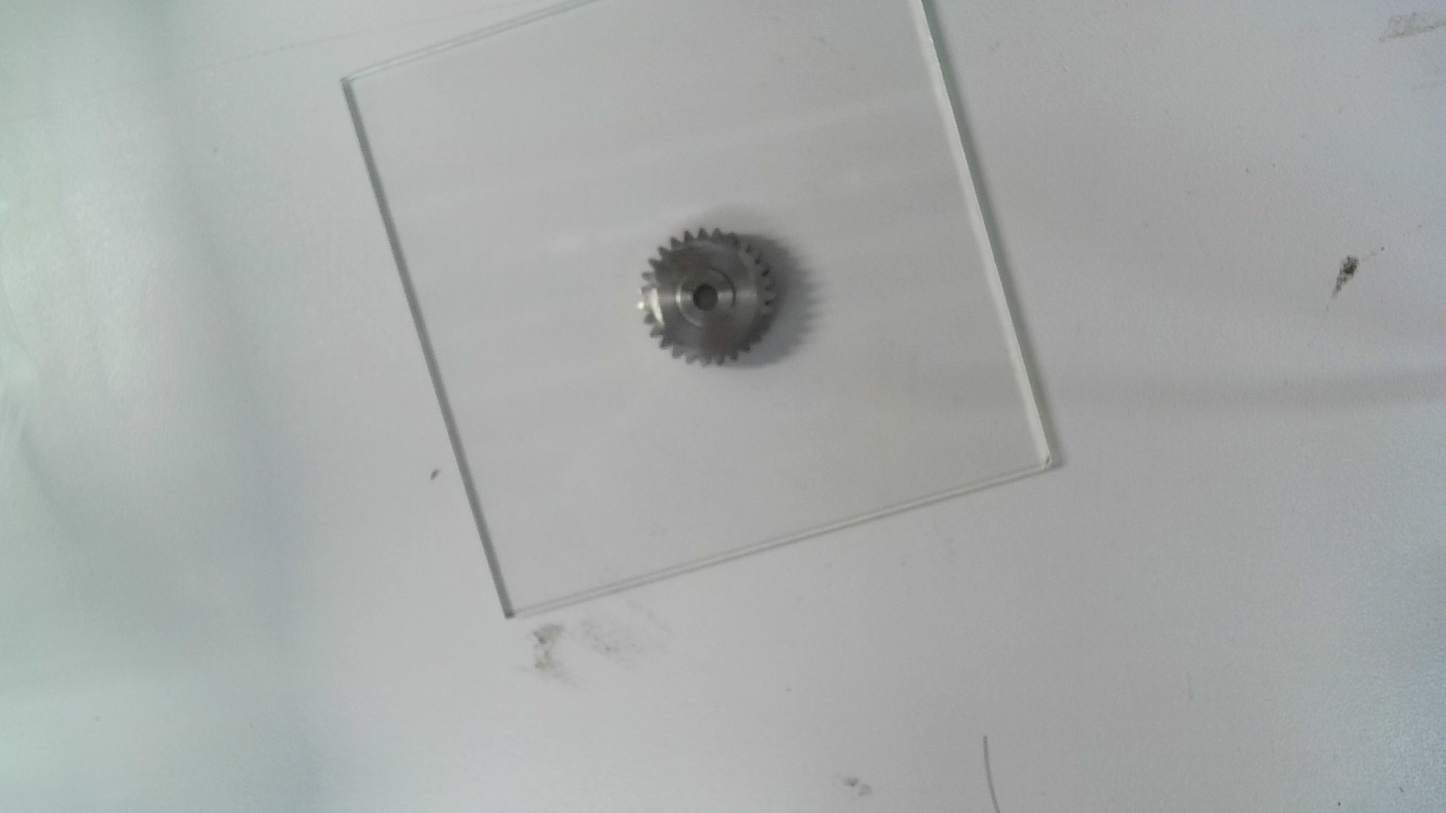gear: (631, 223, 779, 371)
